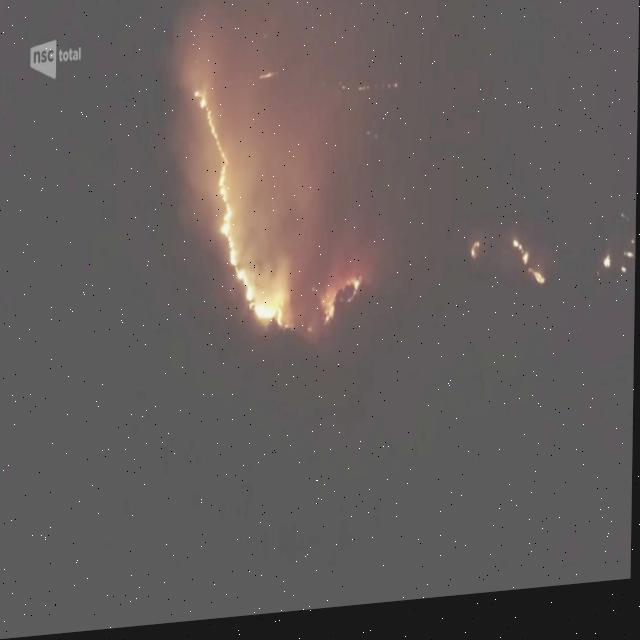Fire: (192, 85, 292, 342), (512, 244, 549, 298), (326, 300, 338, 330), (348, 284, 360, 308), (471, 248, 480, 268), (603, 262, 612, 282)
